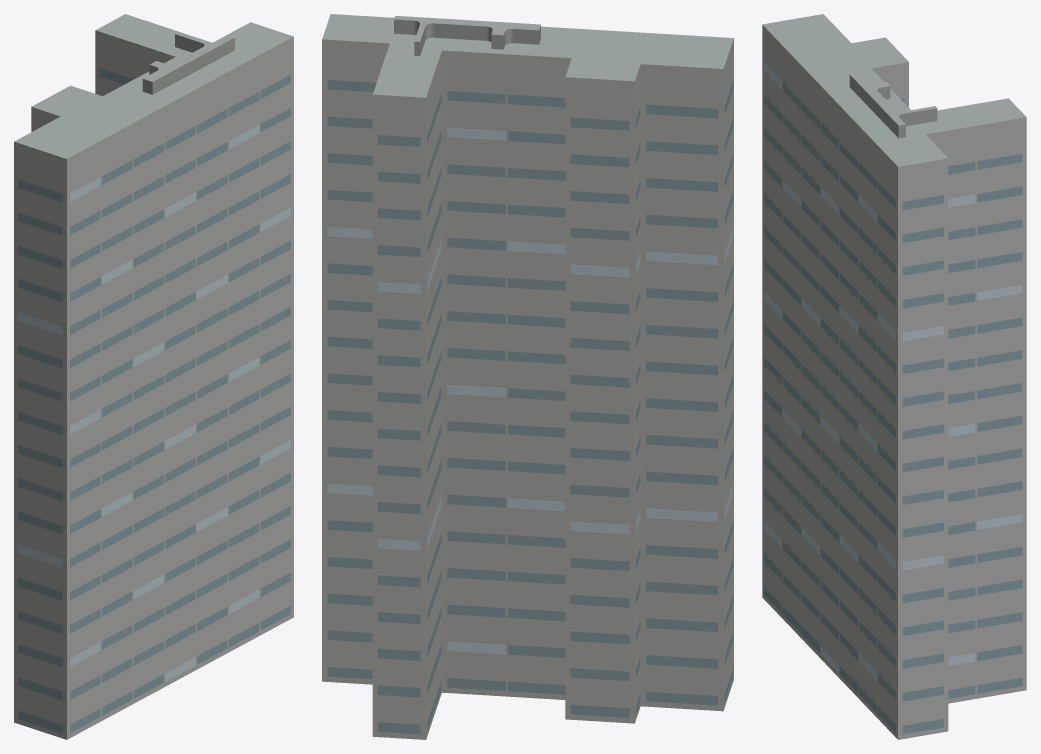
The model's file is fallback-seocho-grand-xi-108.glb.
The picture shows the model from 3 angles, left to right: view 1: azimuth 30°, elevation 25°; view 2: azimuth 150°, elevation 25°; view 3: azimuth 270°, elevation 25°; orthographic projection. The views are drawn at different scales.
Visible parts, largest first — view 1: fallback-seocho-grand-xi-108; view 2: fallback-seocho-grand-xi-108; view 3: fallback-seocho-grand-xi-108.
Part boxes in pixels (x1=…): fallback-seocho-grand-xi-108: x1=14, y1=14, x2=293, y2=739; fallback-seocho-grand-xi-108: x1=322, y1=14, x2=733, y2=739; fallback-seocho-grand-xi-108: x1=762, y1=14, x2=1026, y2=739.
Bounding box in the file's own units: 61.56 × 110 × 44.98.
